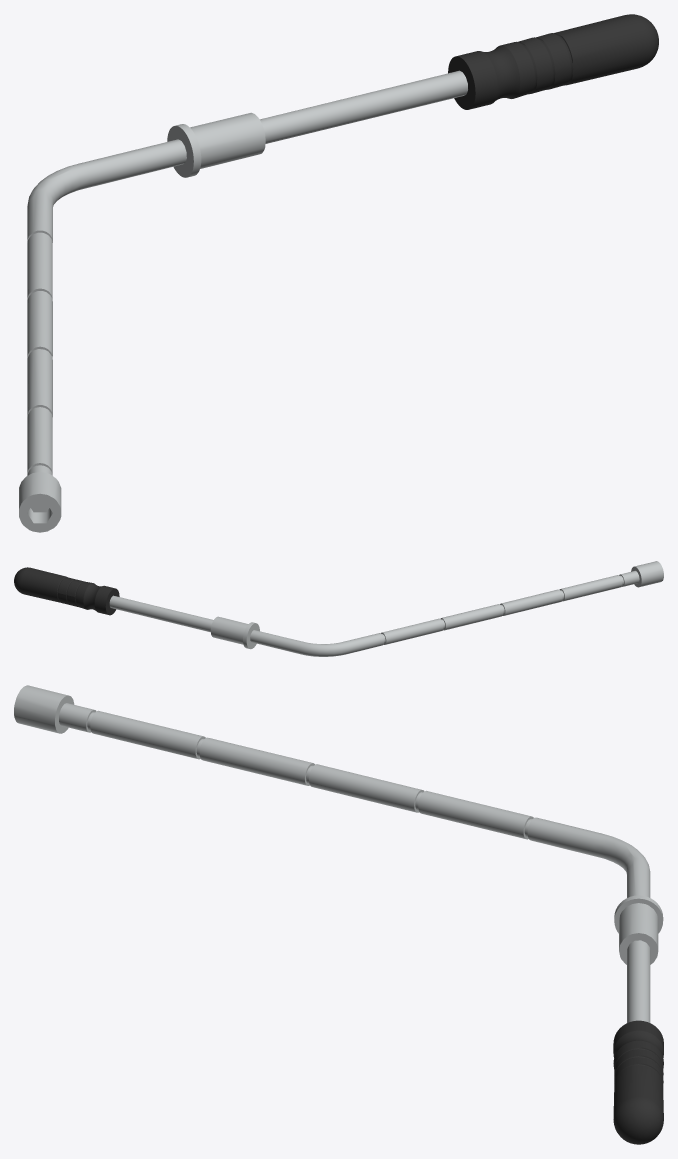
File: 06-hex socket nut driver (13 mm) with long arm_A.fbx
3 renders of one model, top to bottom at view 1: azimuth 30°, elevation 25°; view 2: azimuth 150°, elevation 25°; view 3: azimuth 270°, elevation 25°, orthographic. The views are drawn at different scales.
Visible parts, largest first — view 1: hex socket nut driver (13 mm) with long arm, hex socket nut driver (13 mm) with long arm_A; view 2: hex socket nut driver (13 mm) with long arm, hex socket nut driver (13 mm) with long arm_A; view 3: hex socket nut driver (13 mm) with long arm, hex socket nut driver (13 mm) with long arm_A.
Boxes of the visible parts, x1,y1,x2,y2 form: hex socket nut driver (13 mm) with long arm: (19, 70, 467, 532); hex socket nut driver (13 mm) with long arm_A: (448, 14, 658, 109); hex socket nut driver (13 mm) with long arm: (109, 561, 663, 656); hex socket nut driver (13 mm) with long arm_A: (14, 567, 119, 615); hex socket nut driver (13 mm) with long arm: (14, 685, 663, 1022); hex socket nut driver (13 mm) with long arm_A: (613, 1020, 663, 1144).
Size of the model in its own units: 47.96 by 2.37 by 30.45.
Materials: 1 (1 with a texture image).
